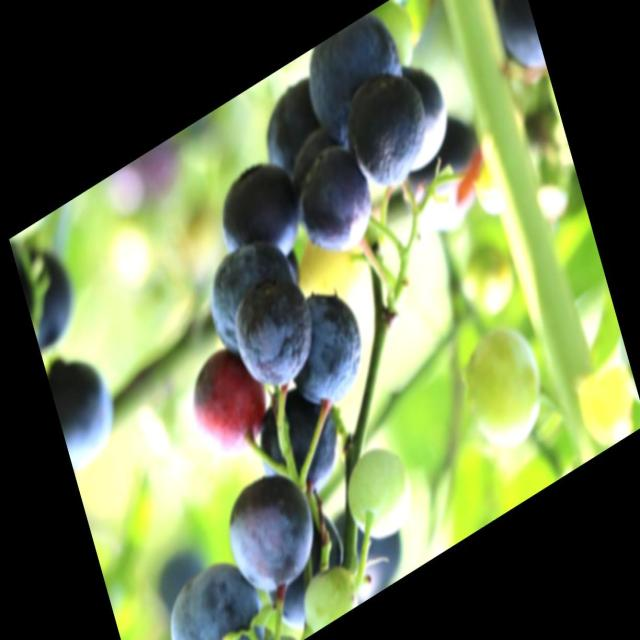blueberry: (298, 1, 412, 151), (217, 461, 321, 605), (248, 376, 352, 518), (338, 58, 437, 201), (201, 227, 309, 356), (226, 260, 324, 400), (208, 147, 309, 282), (278, 273, 372, 417), (293, 137, 380, 266), (157, 548, 271, 639), (47, 346, 123, 470)
blueberry-halfripe: (179, 331, 277, 478)
blueberry-unripe: (454, 308, 552, 462), (338, 436, 419, 554), (296, 555, 362, 634)
